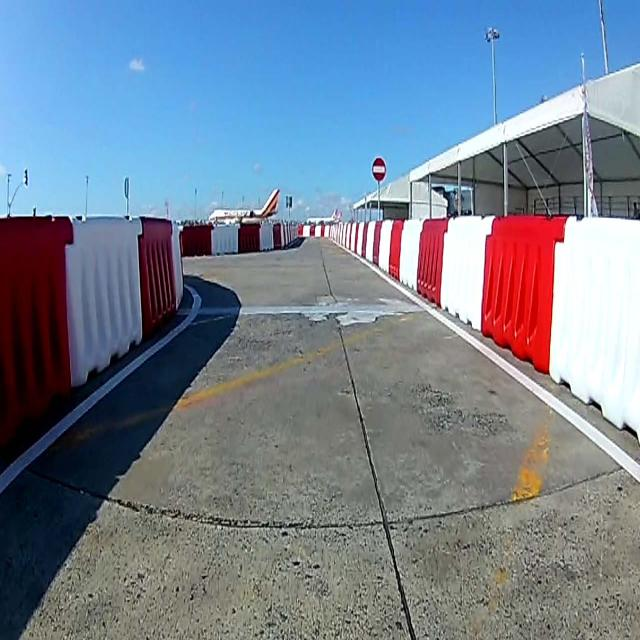girisyok: (372, 157, 386, 183)
